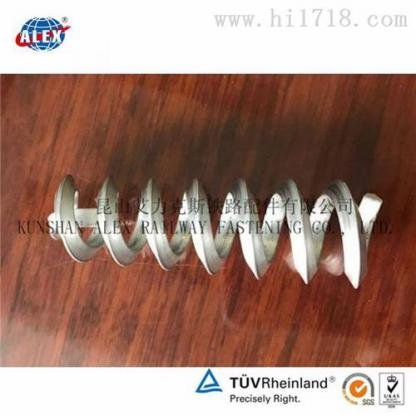FOD: (39, 172, 386, 289)
